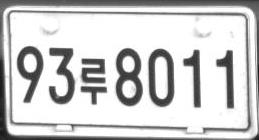0: (147, 48, 175, 108)
1: (213, 49, 242, 109), (179, 49, 208, 108)
3: (47, 47, 75, 105)
8: (114, 47, 143, 106)
9: (16, 44, 44, 104)
루: (80, 57, 107, 105)
